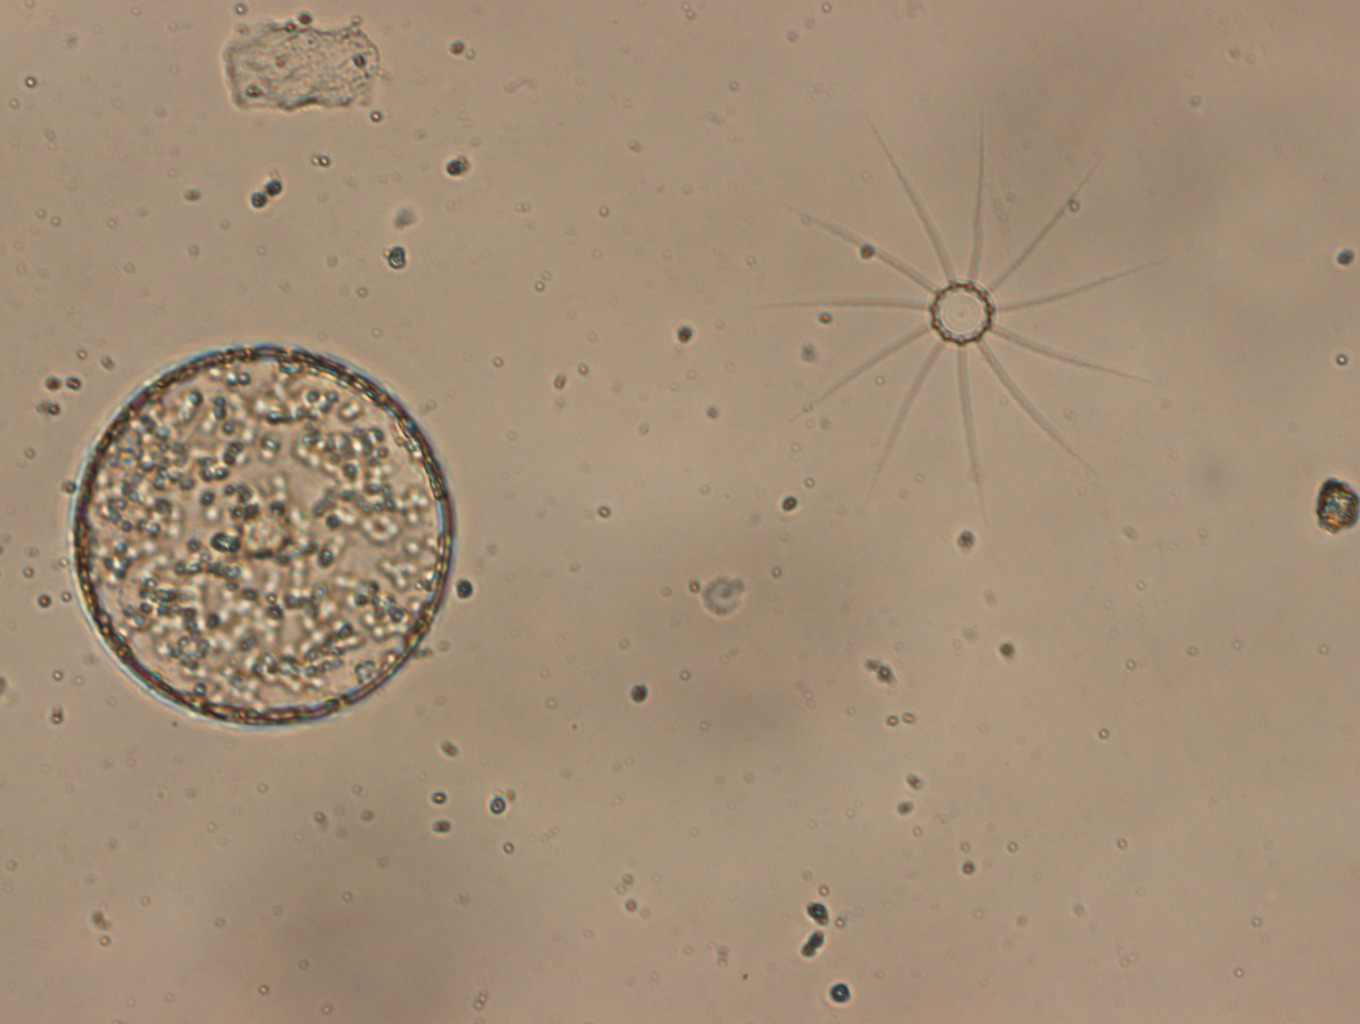bacteriastrum: (765, 110, 1158, 515)
coscinodiscus: (69, 345, 452, 725)
